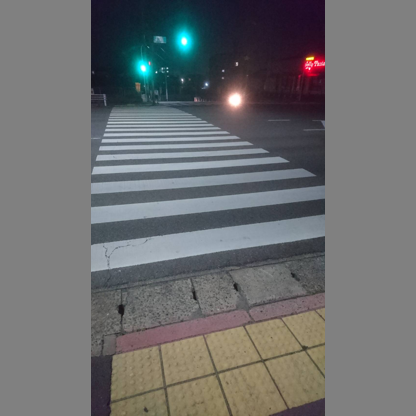brailleblock: (108, 347, 324, 416), (249, 314, 325, 346)
crosswalk: (91, 103, 324, 270)
signal: (174, 22, 194, 57), (130, 53, 153, 79)
